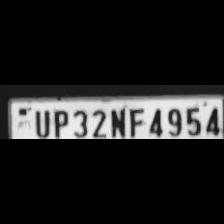2: (89, 106, 107, 138)
3: (70, 106, 88, 138)
4: (144, 105, 164, 136), (202, 104, 220, 136)
5: (182, 104, 202, 136)
9: (164, 105, 182, 137)
F: (125, 105, 144, 137)
N: (107, 106, 125, 138)
P: (50, 108, 70, 138)
U: (30, 107, 50, 137)
